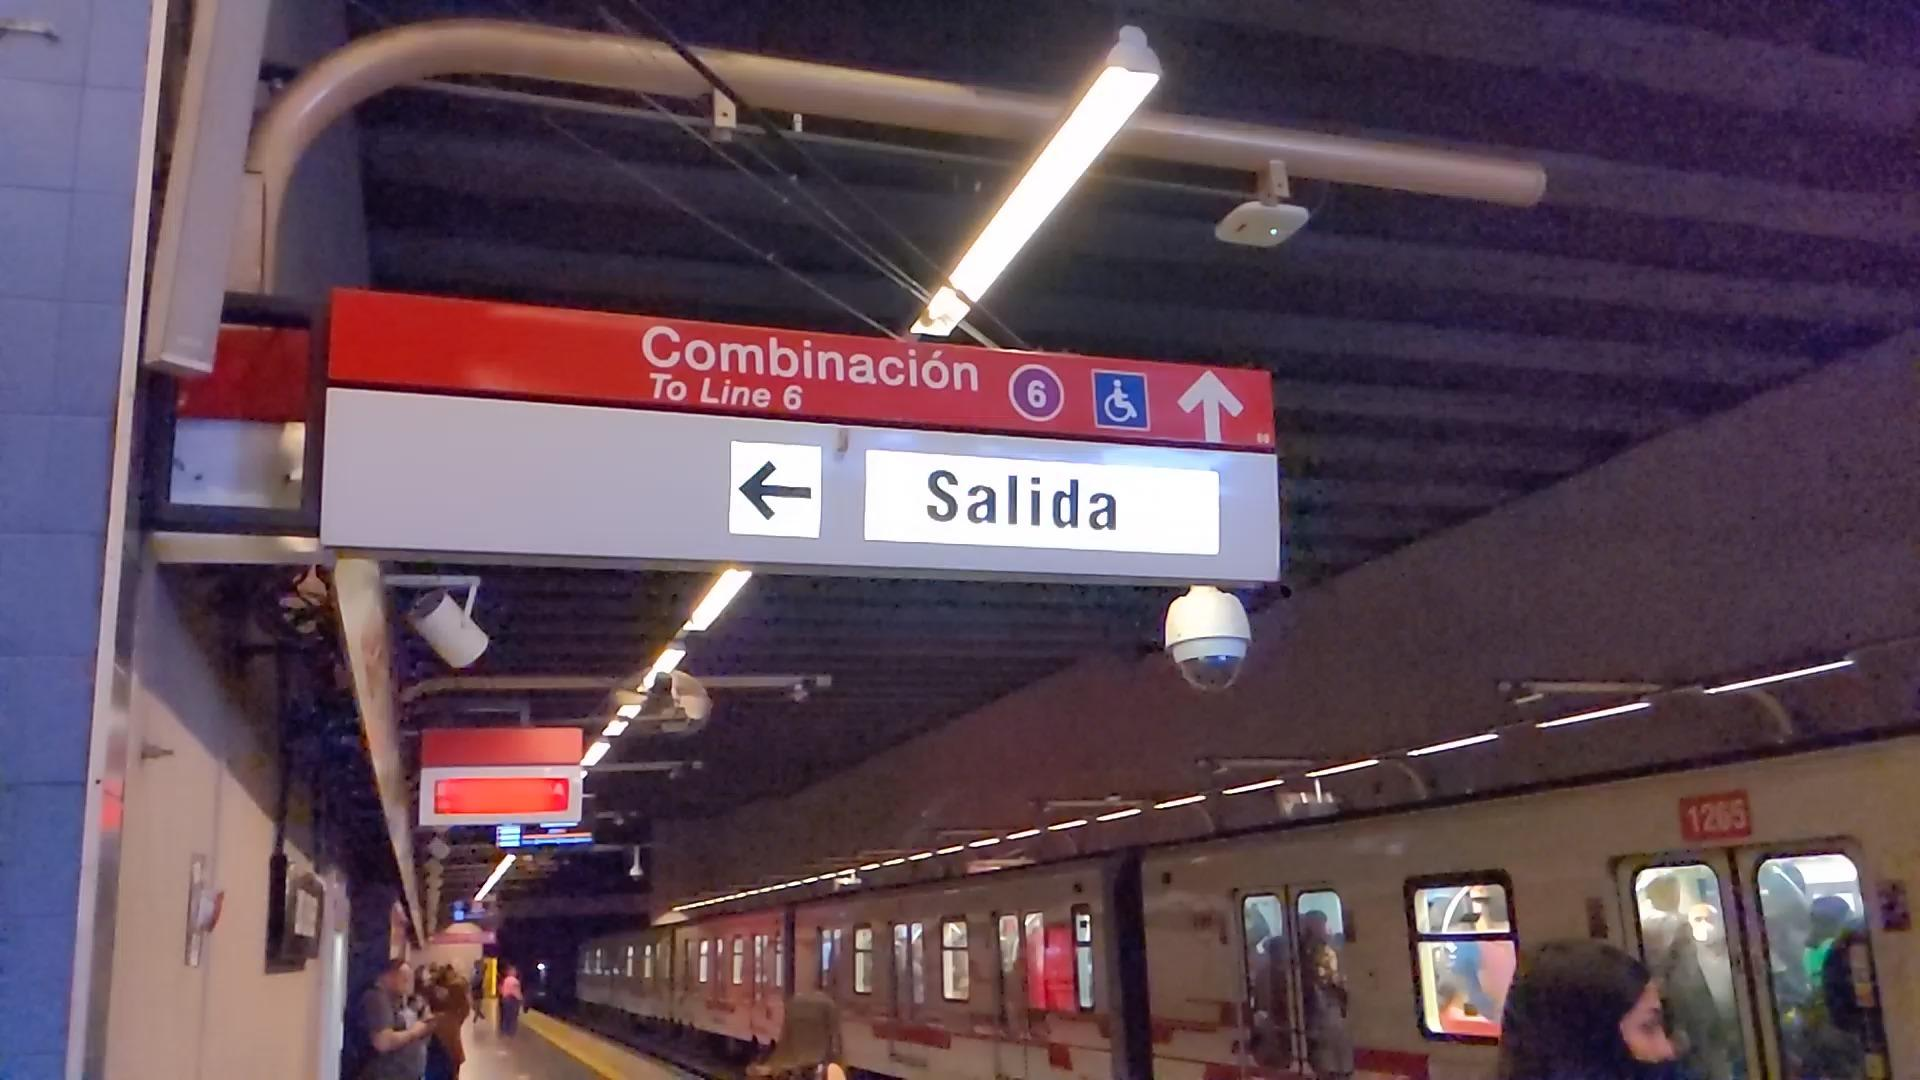handicapped symbol: (1104, 378, 1140, 424)
left arrow: (738, 459, 813, 523)
up arrow: (1175, 369, 1246, 443)
